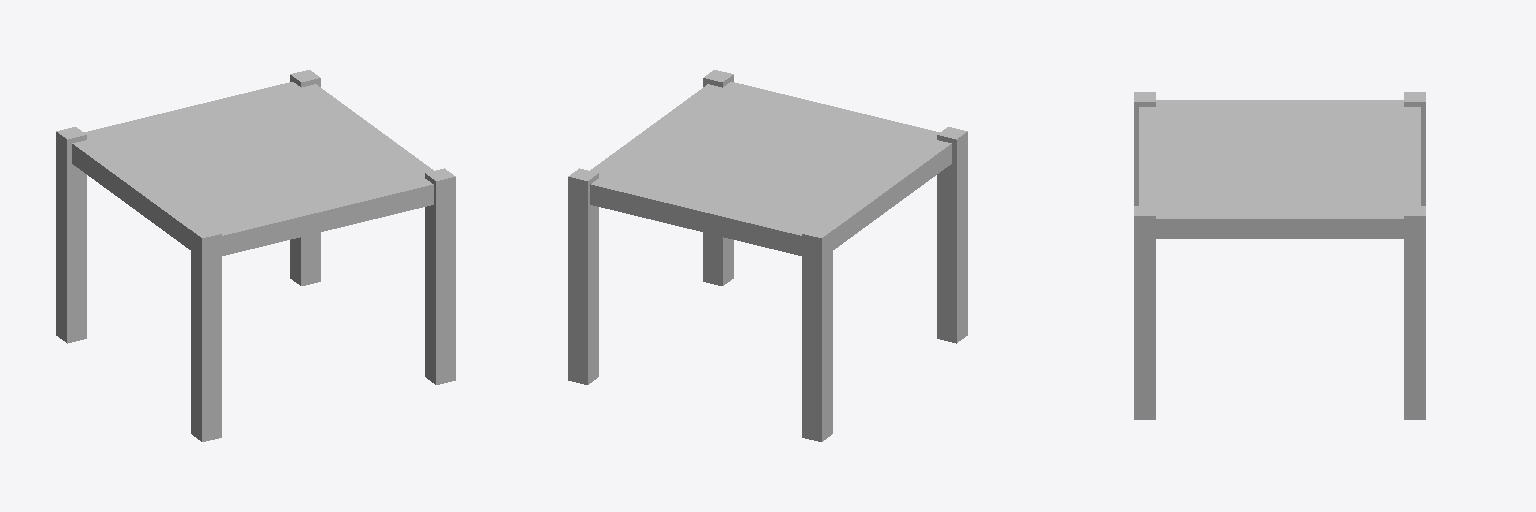
File: model-triangulated.obj
The picture shows the model from 3 angles: view 1: azimuth 30°, elevation 25°; view 2: azimuth 150°, elevation 25°; view 3: azimuth 270°, elevation 25°; orthographic projection.
Parts seen in each view (by area): view 1: group[number redacted], group[number redacted], group[number redacted], group[number redacted], group[number redacted]; view 2: group[number redacted], group[number redacted], group[number redacted], group[number redacted], group[number redacted]; view 3: group[number redacted], group[number redacted], group[number redacted], group[number redacted], group[number redacted].
Boxes of the visible parts, x1,y1,x2,y2 form: group[number redacted]: [72, 82, 433, 255]; group[number redacted]: [191, 226, 221, 441]; group[number redacted]: [425, 168, 455, 384]; group[number redacted]: [56, 127, 86, 343]; group[number redacted]: [290, 70, 320, 285]; group[number redacted]: [590, 82, 951, 255]; group[number redacted]: [802, 226, 832, 441]; group[number redacted]: [568, 168, 598, 384]; group[number redacted]: [937, 127, 967, 343]; group[number redacted]: [703, 70, 733, 285]; group[number redacted]: [1139, 100, 1420, 238]; group[number redacted]: [1404, 206, 1425, 419]; group[number redacted]: [1134, 206, 1155, 419]; group[number redacted]: [1134, 92, 1155, 205]; group[number redacted]: [1404, 92, 1425, 205].
Bounding box in the file's own units: 1.04 × 0.8 × 1.04.